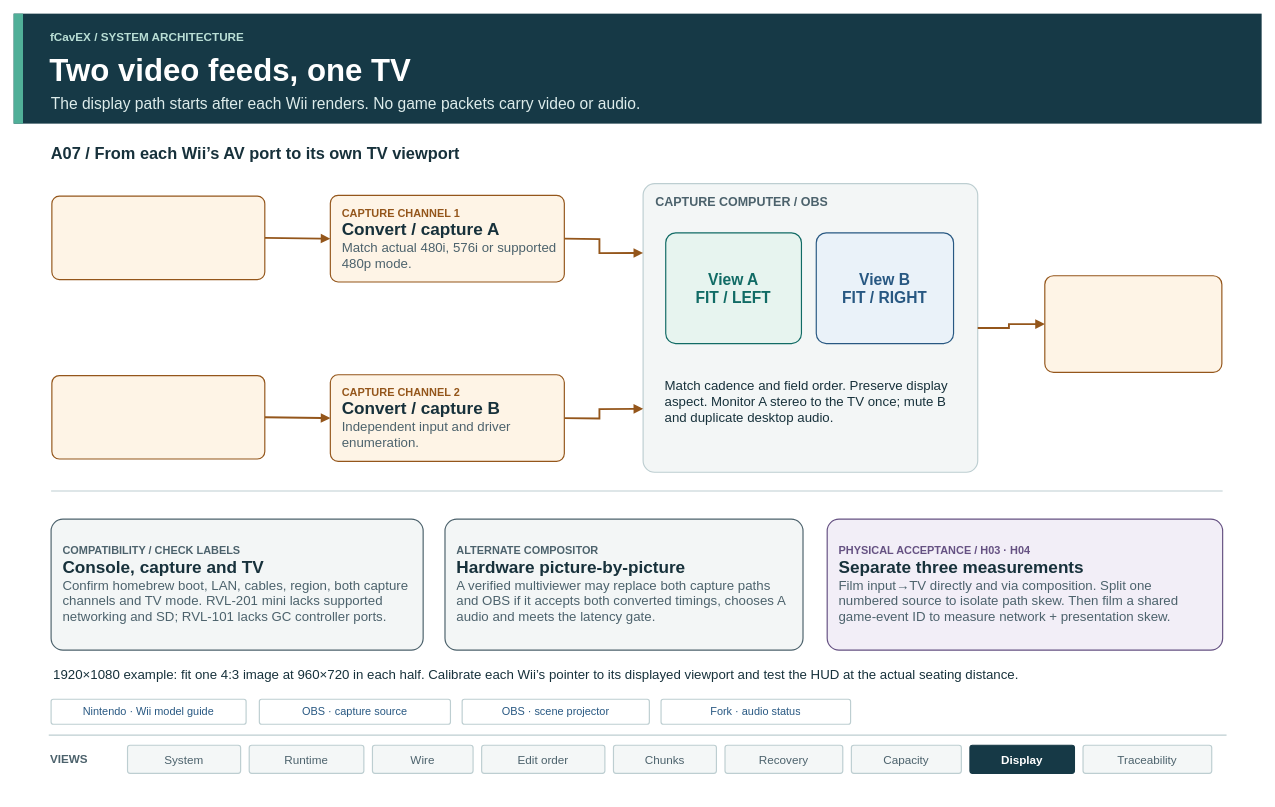
Some shapes in this 1275 by 807 pixel diagram are drawn without their labels. The shapes that lost their labels are listed below. From the top down, each one's centre as x and y in pixels, then its label:
At (x=158, y=237): "WII A / PHYSICAL AV output A Video and stereo A".
At (x=1133, y=324): "FULLSCREEN PROJECTOR TV display One composed output + selected audio.".
At (x=158, y=417): "WII B / PHYSICAL AV output B Video and stereo B".
